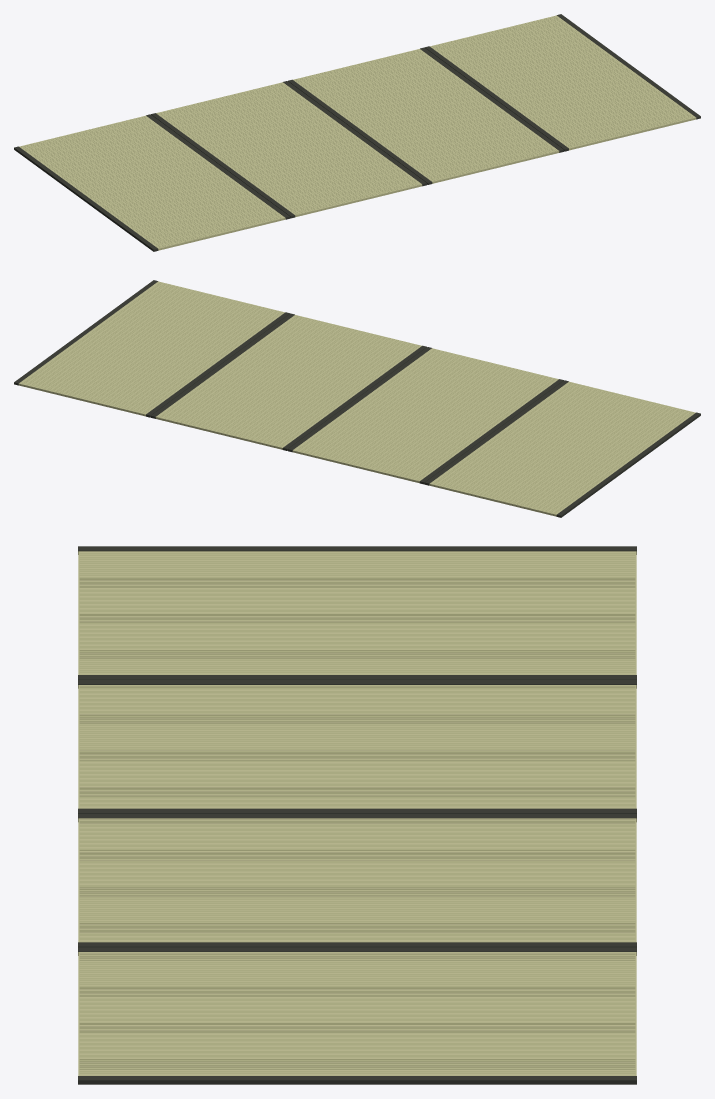
File: tatami.glb
The picture shows the model from 3 angles, top to bottom: view 1: azimuth 30°, elevation 25°; view 2: azimuth 150°, elevation 25°; view 3: azimuth 270°, elevation 25°; orthographic projection. The views are drawn at different scales.
Parts seen in each view (by area): view 1: tatami; view 2: tatami; view 3: tatami.
Part boxes in pixels (box(x1,y1,x2,y2)): tatami: box(14, 14, 700, 251); tatami: box(14, 280, 700, 517); tatami: box(78, 546, 636, 1084).
Size of the model in its own units: 3.57 by 0.0132 by 1.58.
